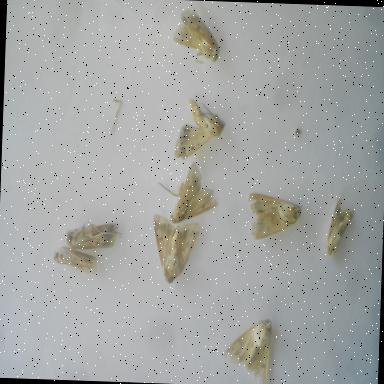abw: (146, 208, 204, 292), (170, 92, 229, 164), (220, 312, 277, 384), (167, 159, 222, 231), (167, 2, 225, 68), (243, 188, 304, 246), (62, 212, 128, 256), (324, 192, 358, 261), (48, 242, 101, 282)
